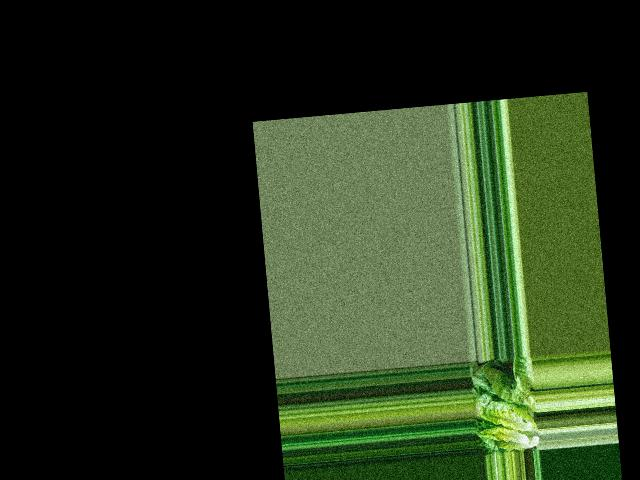lettuce: (476, 387, 540, 453)
